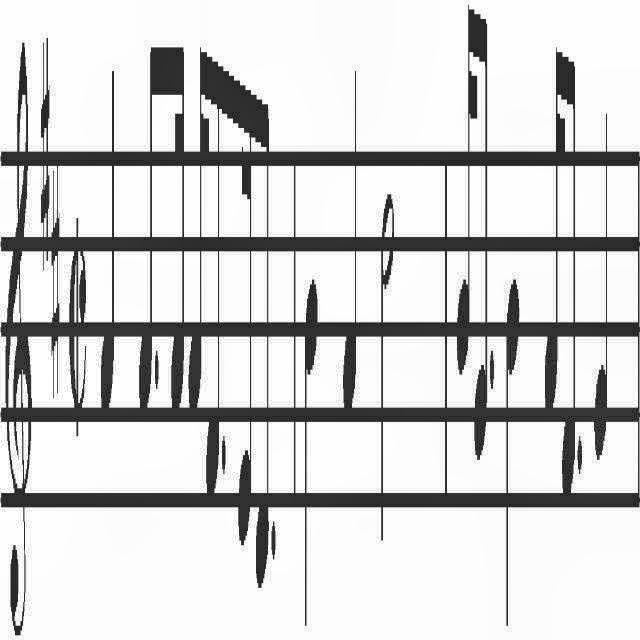Bass-clef: (4, 0, 32, 640)
Diez: (38, 28, 52, 256), (51, 139, 60, 385)
Eighth-note: (253, 79, 270, 596), (136, 30, 154, 418), (208, 15, 220, 505), (563, 21, 575, 505), (476, 0, 488, 468)
Half-note: (377, 175, 399, 548)
Quarter-note: (500, 240, 526, 640), (337, 54, 359, 434), (98, 60, 120, 428), (592, 102, 612, 480), (302, 268, 318, 636)
Sixteenth-note: (538, 6, 566, 434), (236, 58, 256, 578), (452, 9, 476, 377), (187, 33, 206, 425), (170, 24, 187, 442)
